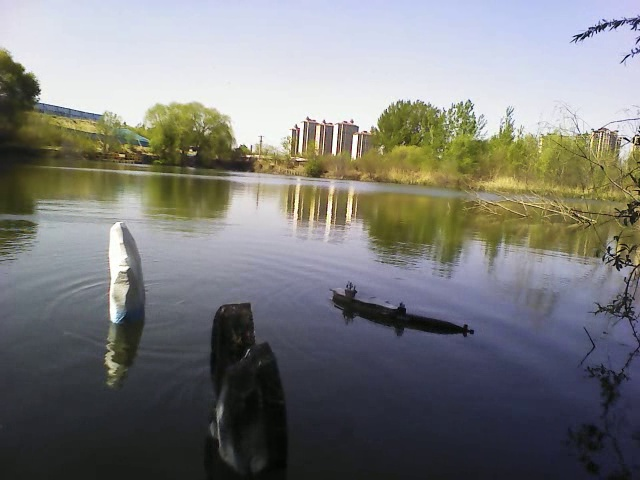aircraft_carrier: (327, 281, 408, 314)
iceberg: (101, 217, 153, 326)
rock: (205, 302, 292, 470)
submarine: (378, 308, 475, 338)
